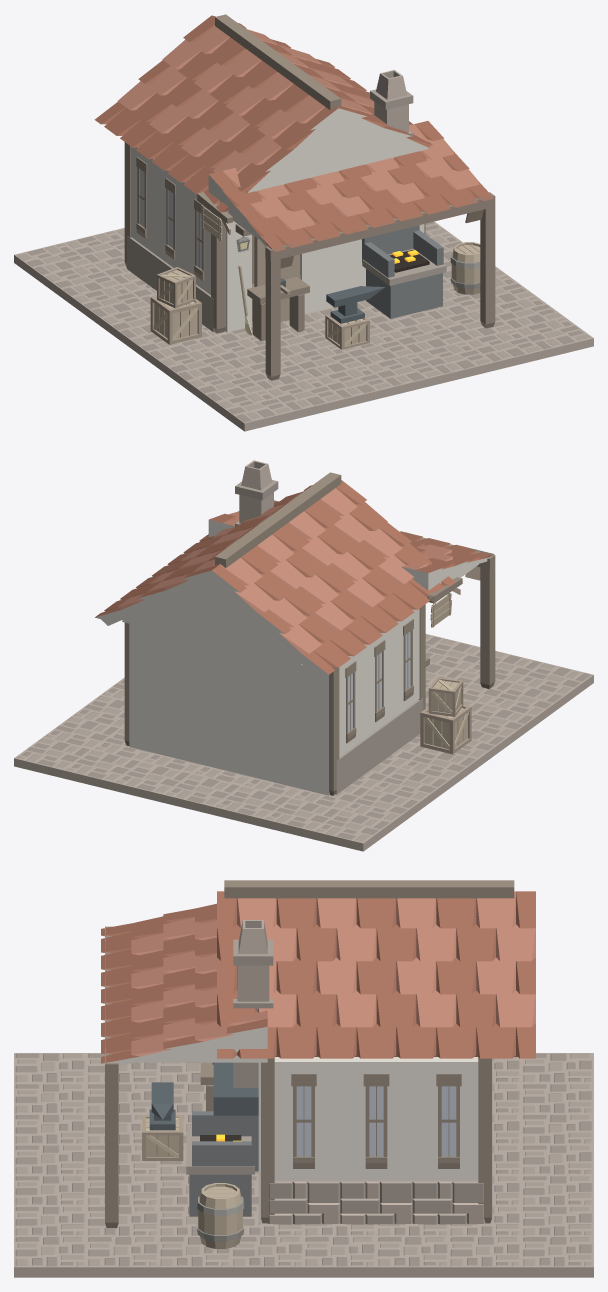
Rendered from blacksmith.glb.
3 renders of one model, top to bottom at view 1: azimuth 30°, elevation 25°; view 2: azimuth 150°, elevation 25°; view 3: azimuth 270°, elevation 25°, orthographic. The views are drawn at different scales.
Visible parts, largest first — view 1: Blacksmith; view 2: Blacksmith; view 3: Blacksmith.
Part boxes in pixels (<box>): Blacksmith: <box>14,14,593,431</box>; Blacksmith: <box>14,460,593,851</box>; Blacksmith: <box>14,880,593,1277</box>.
Size of the model in its own units: 7 by 4.37 by 8.
